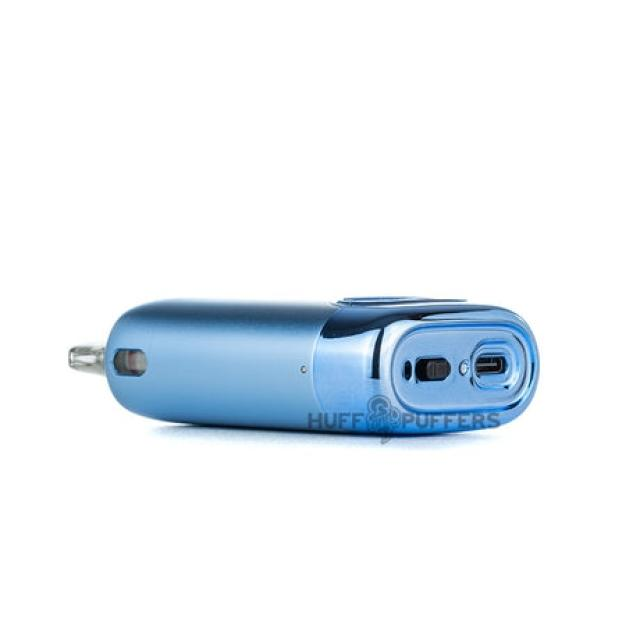Vape-images: (67, 294, 541, 438)
